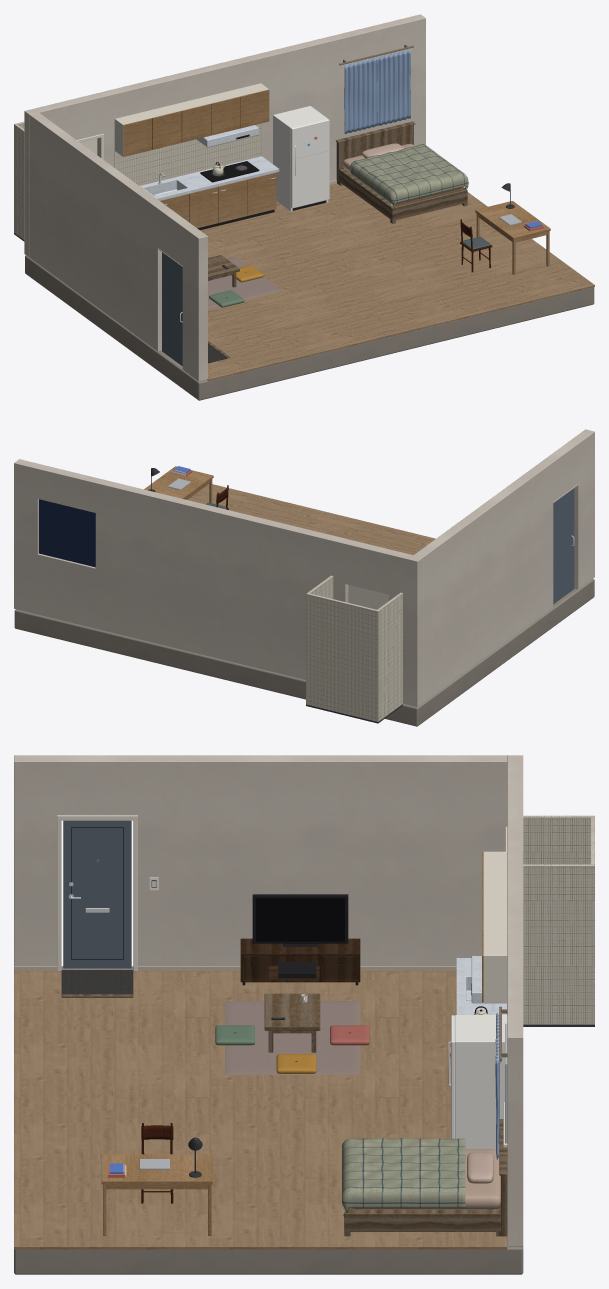
Rendered from room.glb.
3 views of the same model, one above another, from view 1: azimuth 30°, elevation 25°; view 2: azimuth 150°, elevation 25°; view 3: azimuth 270°, elevation 25° (orthographic). The views are drawn at different scales.
Visible parts, largest first — view 1: Room, Kitchen, Blanket, Bed, FridgeDoor, CurtainR, CurtainL, Fridge, EntranceDoor, Desk, Bathroom, Rug (+3 smaller); view 2: Room, Bathroom, Window, EntranceDoor, Desk, BathDoor; view 3: Room, Bathroom, EntranceDoor, Blanket, Bed, Rug, Fridge, Kitchen, TV, TVStand, Desk, LowTable (+6 smaller).
Part boxes in pixels (x1=…): Room: x1=24, y1=14, x2=594, y2=400; Kitchen: x1=114, y1=83, x2=279, y2=230; Blanket: x1=350, y1=144, x2=468, y2=210; Bed: x1=335, y1=121, x2=467, y2=223; FridgeDoor: x1=291, y1=119, x2=329, y2=208; CurtainR: x1=377, y1=49, x2=410, y2=125; CurtainL: x1=344, y1=57, x2=377, y2=134; Fridge: x1=273, y1=106, x2=328, y2=211; EntranceDoor: x1=162, y1=252, x2=182, y2=365; Desk: x1=475, y1=201, x2=550, y2=274; Bathroom: x1=14, y1=121, x2=24, y2=241; Rug: x1=208, y1=257, x2=280, y2=308; Room: x1=14, y1=429, x2=594, y2=726; Bathroom: x1=306, y1=575, x2=402, y2=723; Window: x1=39, y1=499, x2=95, y2=567; EntranceDoor: x1=553, y1=488, x2=574, y2=603; Desk: x1=144, y1=466, x2=213, y2=503; BathDoor: x1=348, y1=585, x2=388, y2=609; Room: x1=14, y1=755, x2=523, y2=1274; Bathroom: x1=523, y1=815, x2=594, y2=1026; EntranceDoor: x1=63, y1=820, x2=131, y2=968; Blanket: x1=342, y1=1138, x2=465, y2=1216; Bed: x1=344, y1=1119, x2=507, y2=1236; Rug: x1=225, y1=1001, x2=360, y2=1074; Fridge: x1=455, y1=1015, x2=507, y2=1150; Kitchen: x1=456, y1=851, x2=507, y2=1014; TV: x1=252, y1=894, x2=348, y2=946; TVStand: x1=240, y1=938, x2=360, y2=985; Desk: x1=101, y1=1154, x2=212, y2=1235; LowTable: x1=264, y1=993, x2=320, y2=1052.
Bounding box in the file's own units: 8.4 × 3.3 × 7.3.
71 materials, 26 textured.
